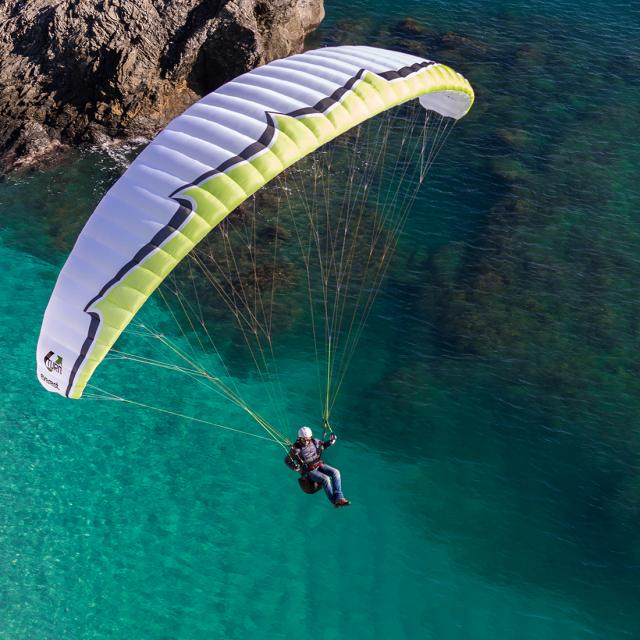paraglider: (34, 42, 475, 406)
